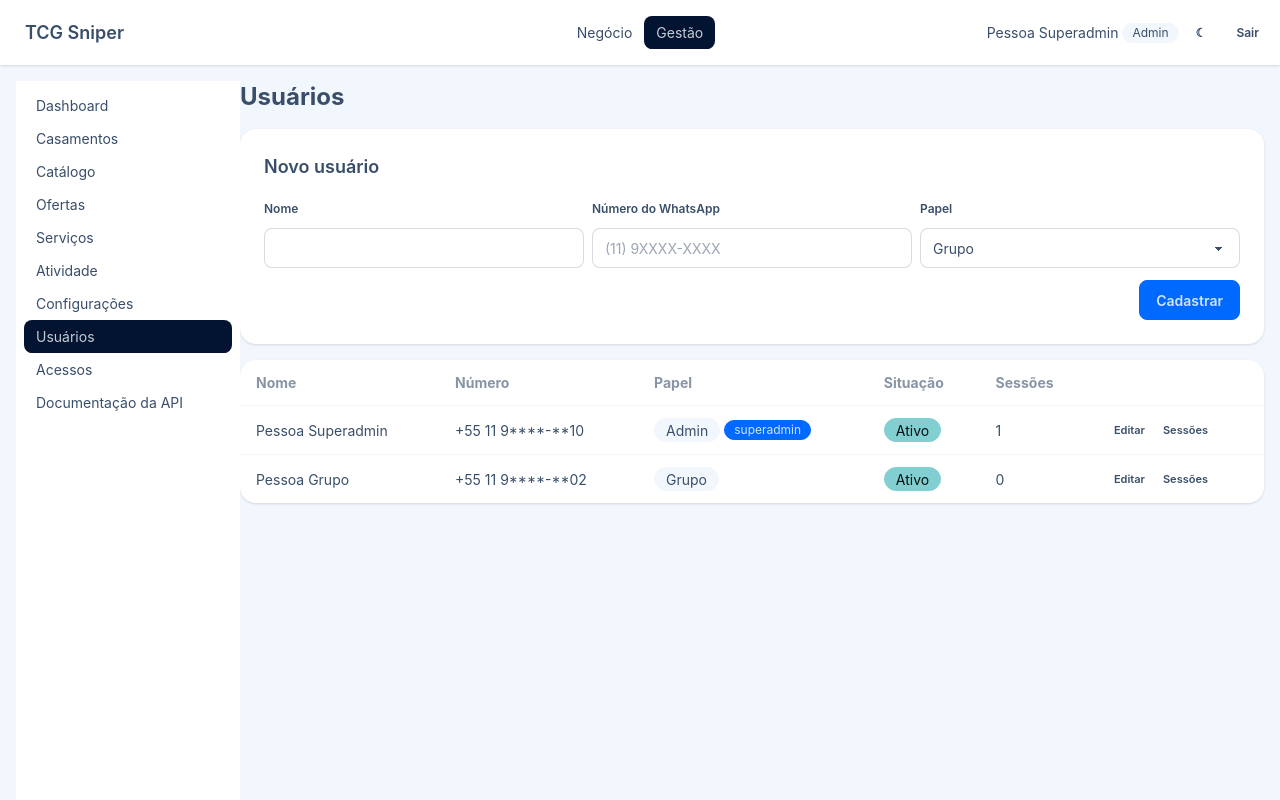
Gestão → Usuários › renomear a si mesmo atualiza o nome no menu do topo
Expected: the table is shown, [240,360,1264,503]
Click the button "Editar" in the row of "+55 11 9****-**10".
click(1129, 430)  # box [1105,418,1154,442]
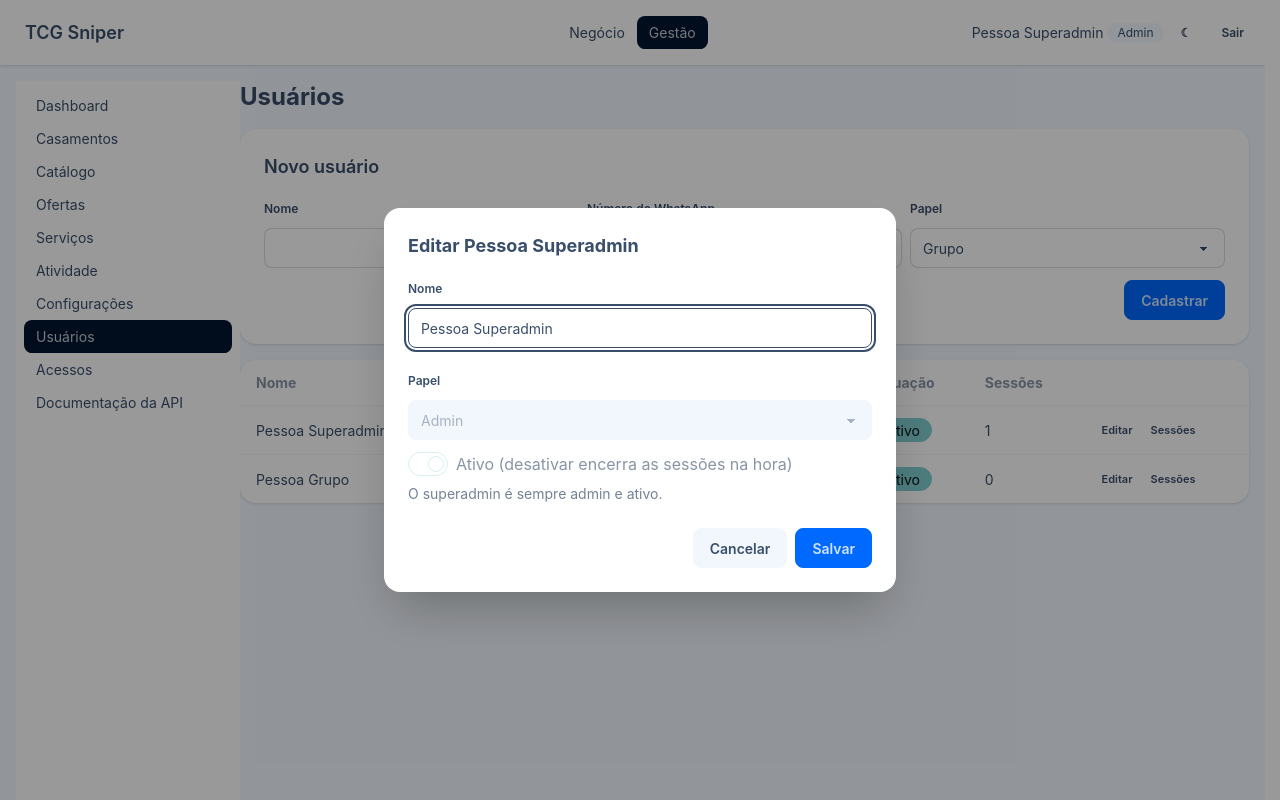
Replace the text in the field labelled "Nome" with "Dono" at [640, 328], box [408,308,872,348]
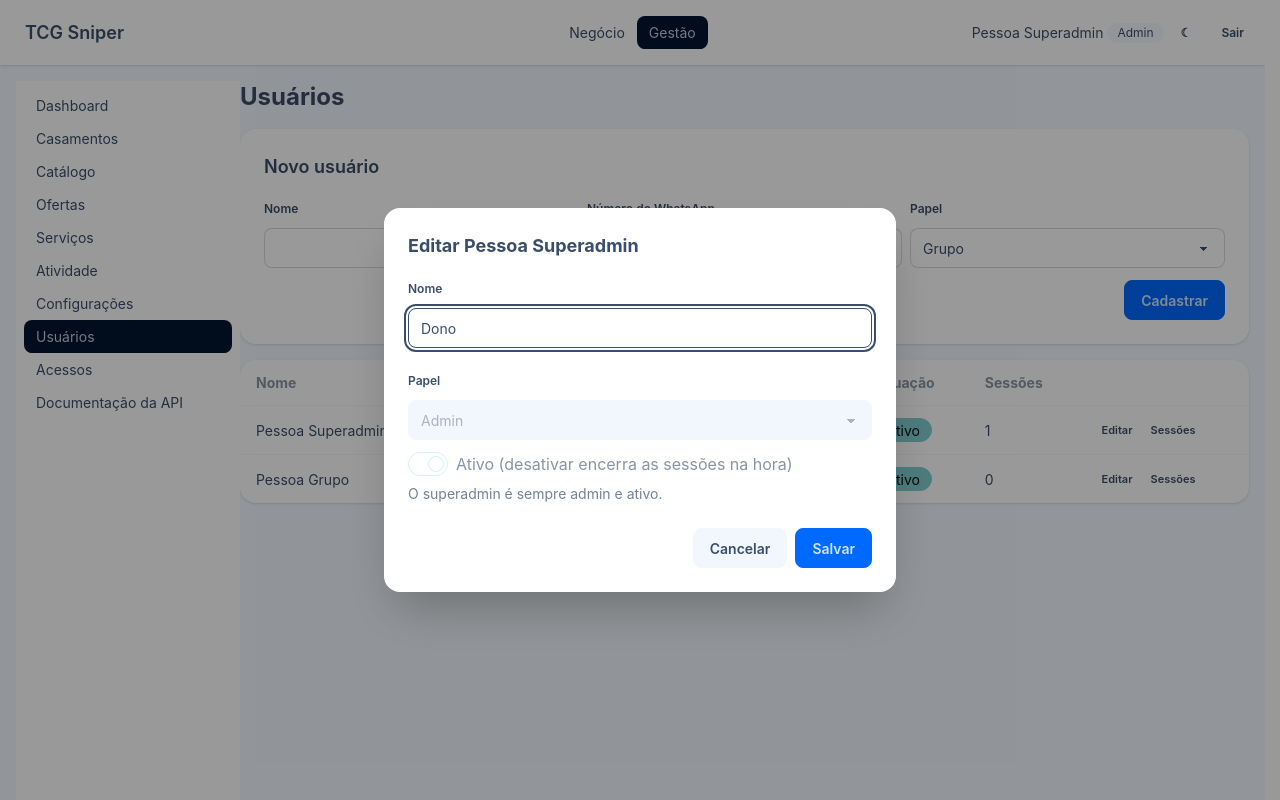
Click the button "Salvar".
click(834, 548)  # box [795,528,872,568]
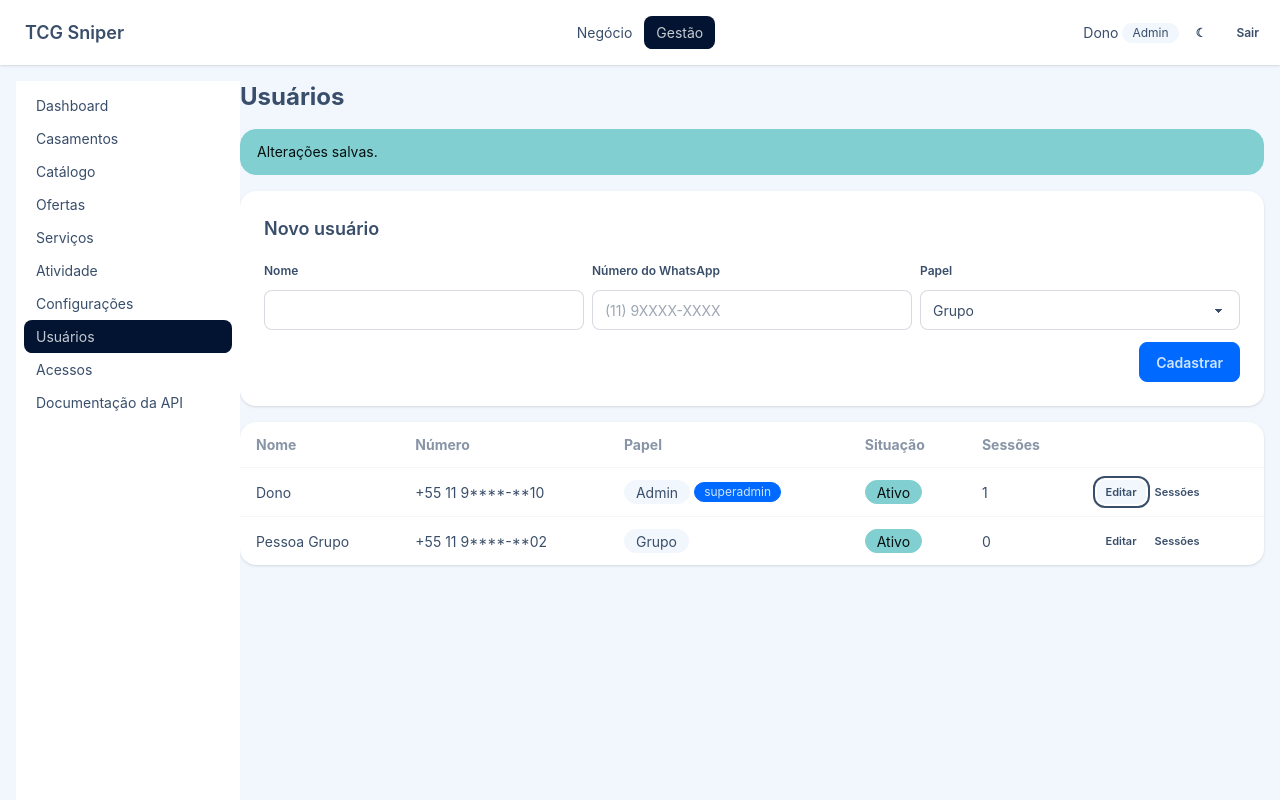
Expected: the text "Dono" is shown 2 times, [1083,22,1118,42]; [240,468,399,517]
Expected: the text "Alterações salvas." is shown, [240,129,1264,175]
Expected: the text "Pessoa Superadmin" is gone
